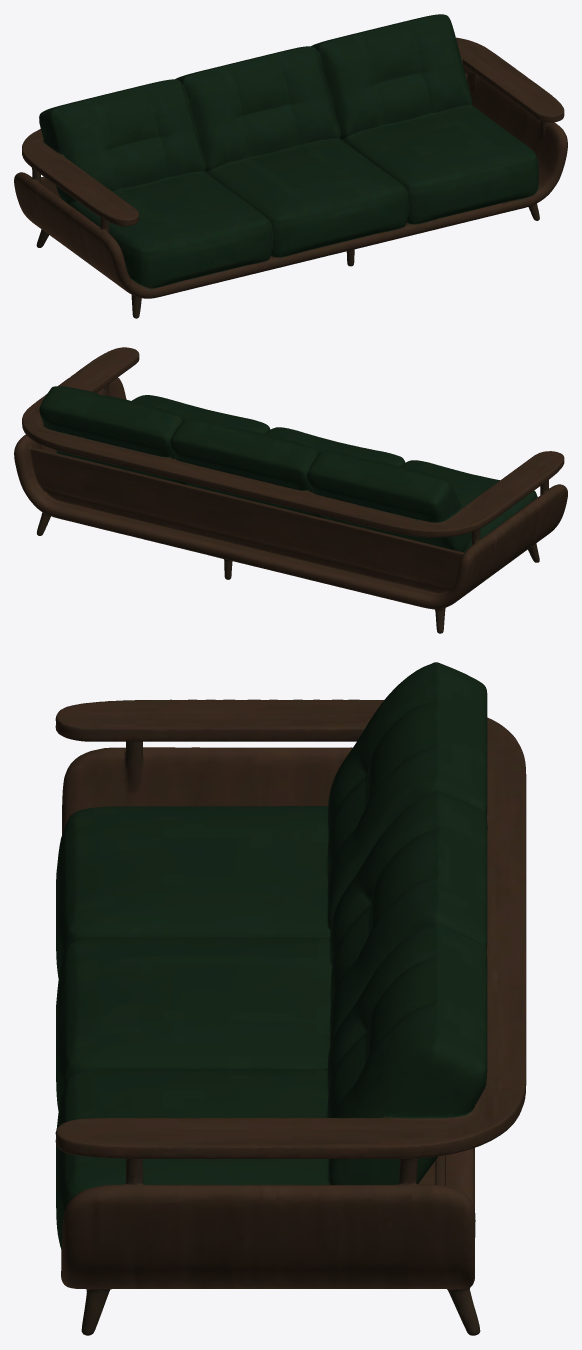
Rendered from Mid-Century Modern Emerald Velvet Three-Seater Sofa with Walnut Frame [_8j0DI].glb.
3 renders of one model, top to bottom at view 1: azimuth 30°, elevation 25°; view 2: azimuth 150°, elevation 25°; view 3: azimuth 270°, elevation 25°, orthographic. The views are drawn at different scales.
Parts seen in each view (by area): view 1: world; view 2: world; view 3: world.
Boxes of the visible parts, <box> form: world: <box>14,14,567,318</box>; world: <box>14,347,567,633</box>; world: <box>55,662,526,1335</box>.
Size of the model in its own units: 1 by 0.3047 by 0.4456.
1 material, 1 textured.
